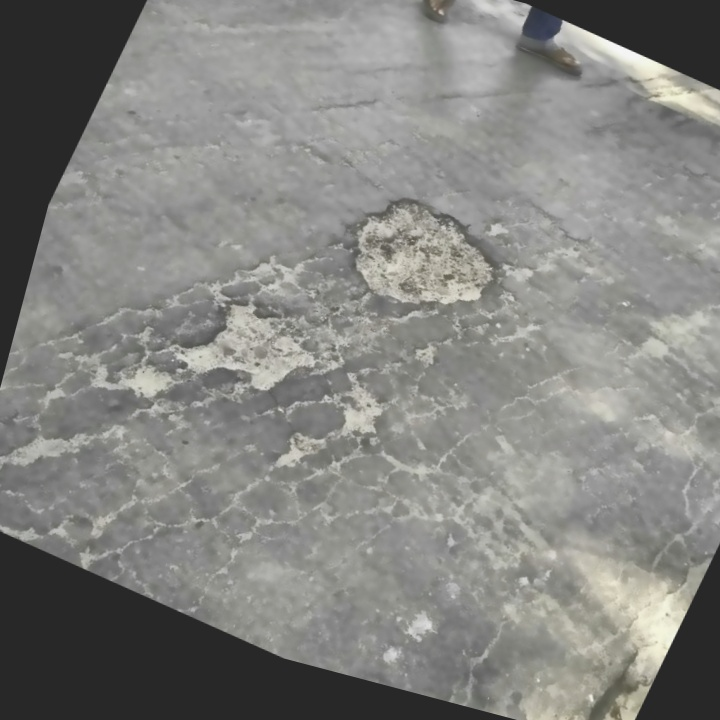pothole: (321, 170, 521, 341), (157, 272, 336, 417)
